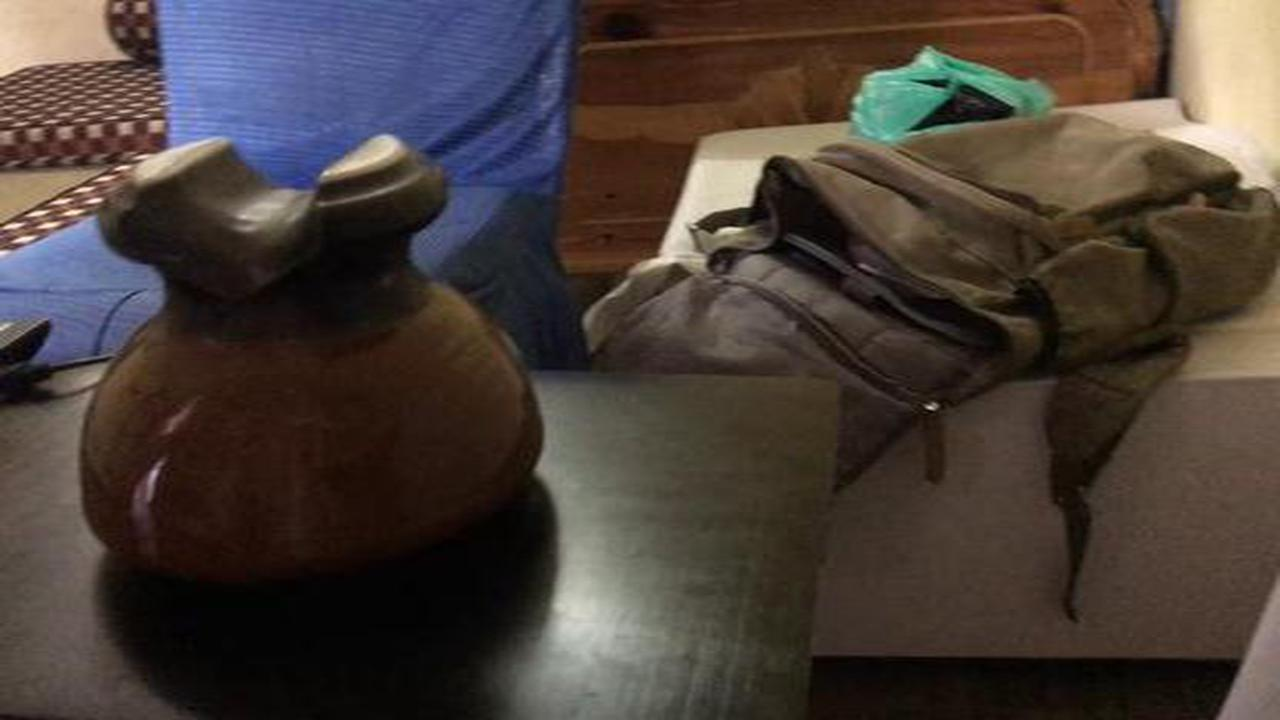insulator_pin: (61, 125, 561, 615)
